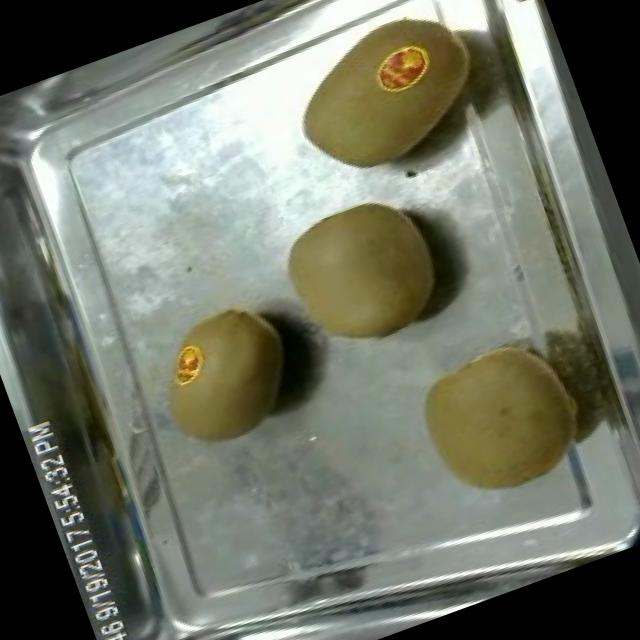Fruit: (271, 0, 505, 197), (392, 316, 608, 523), (261, 176, 464, 372), (126, 281, 318, 468), (453, 0, 548, 32)
